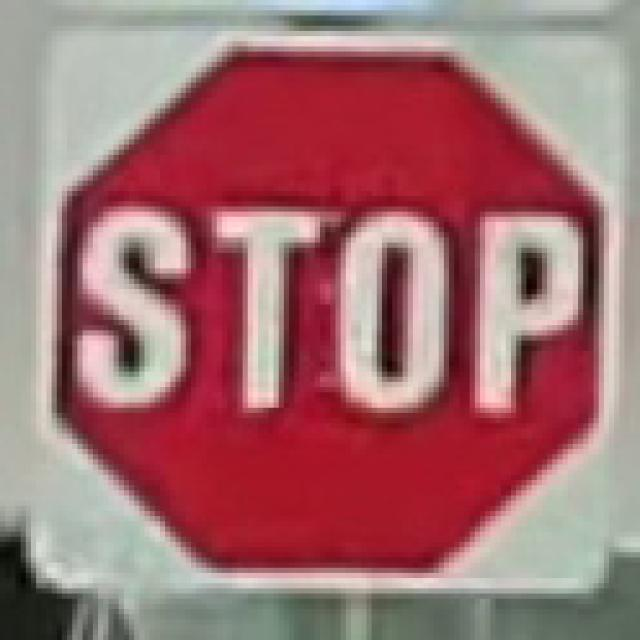mandatorystop_sign: (36, 26, 619, 583)
